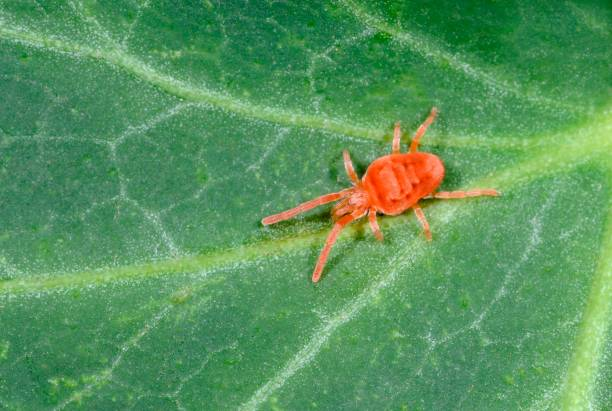Mites: (276, 90, 493, 293)
